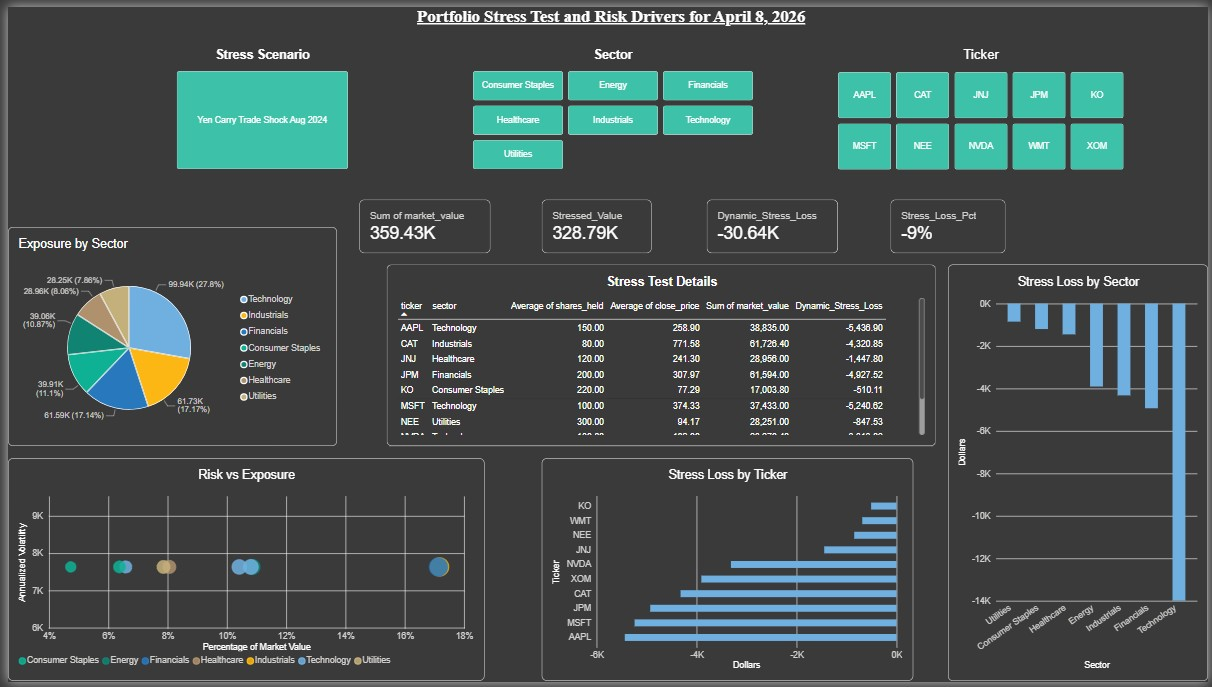

The dashboard page shown, as its layout file describes it:
{"tool":"powerbi","page":{"name":"Page 3","canvas":[1920,1080],"ordinal":2},"visuals":[{"type":"advancedSlicerVisual","title":"Stress Scenario","fields":{"Values":["Stress_Parameters.scenario"]},"box":[270,64,274,196],"z":0},{"type":"advancedSlicerVisual","title":"Sector","fields":{"Values":["portfolio_mapping.sector"]},"box":[744,64,448,196],"z":1000},{"type":"advancedSlicerVisual","title":"Ticker","fields":{"Values":["portfolio_mapping.ticker"]},"box":[1328,64,458,196],"z":2000},{"type":"textbox","box":[10,0,1910,45],"z":3000},{"type":"cardVisual","fields":{"Data":["Sum(exposure_view.market_value)"]},"box":[562,308,210,86],"z":4000},{"type":"cardVisual","fields":{"Data":["exposure_view.Dynamic_Stress_Loss"]},"box":[1118,308,210,86],"z":5000},{"type":"pieChart","title":"Exposure by Sector","fields":{"Category":["exposure_view.sector"],"Y":["Divide(Sum(exposure_view.market_value), ScopedEval(Sum(exposure_view.market_value), []))"]},"box":[0,352,526,350],"z":6000},{"type":"scatterChart","title":"Risk vs Exposure","fields":{"Category":["exposure_view.ticker"],"Series":["exposure_view.sector"],"Size":["Sum(exposure_view.market_value)1"],"X":["Sum(exposure_view.market_value)"],"Y":["Avg(asset_volatility.annualized_volatility)"]},"box":[0,722,762,356],"z":7000},{"type":"clusteredColumnChart","title":"Stress Loss by Sector","fields":{"Category":["exposure_view.sector"],"Y":["exposure_view.Dynamic_Stress_Loss"]},"box":[1504,412,416,666],"z":8000},{"type":"tableEx","title":"Stress Test Details","fields":{"Values":["exposure_view.ticker","exposure_view.sector","Avg(exposure_view.shares_held)","Avg(exposure_view.close_price)","Sum(exposure_view.market_value)","exposure_view.Dynamic_Stress_Loss"]},"box":[606,412,878,290],"z":9000},{"type":"cardVisual","fields":{"Data":["exposure_view.Stress_Loss_Pct"]},"box":[1412,308,184,86],"z":10000},{"type":"cardVisual","fields":{"Data":["exposure_view.Stressed_Value"]},"box":[854,308,176,86],"z":11000},{"type":"clusteredBarChart","title":"Stress Loss by Ticker","fields":{"Category":["exposure_view.ticker"],"Y":["exposure_view.Dynamic_Stress_Loss"]},"box":[854,722,594,356],"z":12000}]}

Visuals, with their boxes in screenshot pixels (x1, y1, x2, y2), scaled from the page's 1920x1080 canvas onto the 1212x687 screenshot:
"Stress Scenario" advancedSlicerVisual: box=[170, 41, 343, 165]
"Sector" advancedSlicerVisual: box=[470, 41, 752, 165]
"Ticker" advancedSlicerVisual: box=[838, 41, 1127, 165]
textbox: box=[6, 0, 1211, 29]
cardVisual - Sum(exposure_view.market_value): box=[355, 196, 487, 251]
cardVisual - exposure_view.Dynamic_Stress_Loss: box=[706, 196, 838, 251]
"Exposure by Sector" pieChart: box=[0, 224, 332, 447]
"Risk vs Exposure" scatterChart: box=[0, 459, 481, 686]
"Stress Loss by Sector" clusteredColumnChart: box=[949, 262, 1211, 686]
"Stress Test Details" tableEx: box=[383, 262, 937, 447]
cardVisual - exposure_view.Stress_Loss_Pct: box=[891, 196, 1007, 251]
cardVisual - exposure_view.Stressed_Value: box=[539, 196, 650, 251]
"Stress Loss by Ticker" clusteredBarChart: box=[539, 459, 914, 686]
